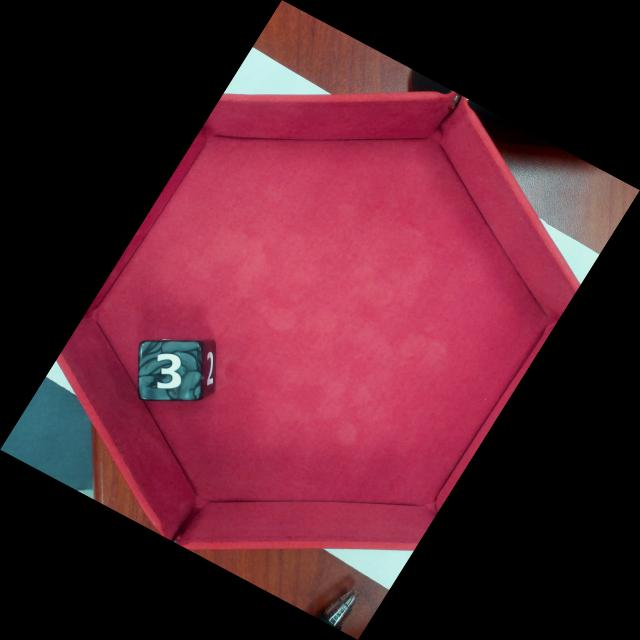dice: (140, 341, 205, 402)
